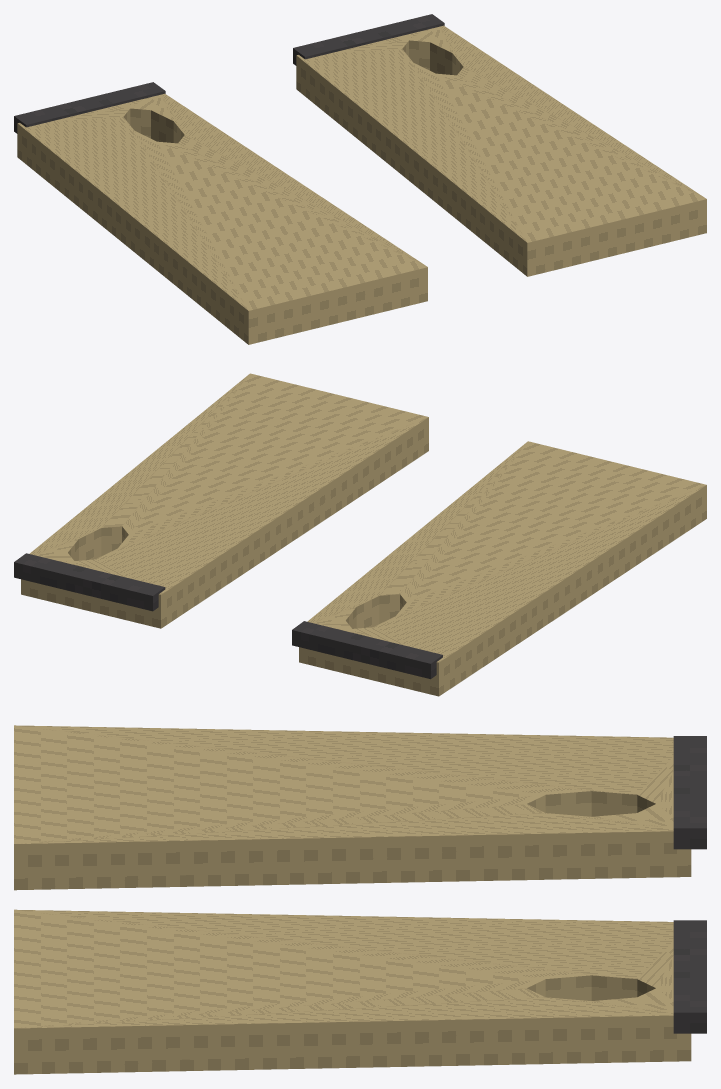
Rendered from armguard_cut_resistant.glb.
The picture shows the model from 3 angles, top to bottom: view 1: azimuth 30°, elevation 25°; view 2: azimuth 150°, elevation 25°; view 3: azimuth 270°, elevation 25°; orthographic projection. The views are drawn at different scales.
Visible parts, largest first — view 1: block_long protective sleeve (×2), block_wrist binding (×2); view 2: block_long protective sleeve (×2), block_wrist binding (×2); view 3: block_long protective sleeve (×2), block_wrist binding (×2).
Boxes of the visible parts, x1,y1,x2,y2 form: block_long protective sleeve (×2): (17,25,706,344); block_wrist binding (×2): (14,14,444,133); block_long protective sleeve (×2): (21,373,706,696); block_wrist binding (×2): (14,553,442,679); block_long protective sleeve (×2): (14,725,691,1074); block_wrist binding (×2): (673,736,706,1033).
Size of the model in its own units: 0.3033 by 0.0231 by 0.2932.
Materials: 1 (1 with a texture image).
